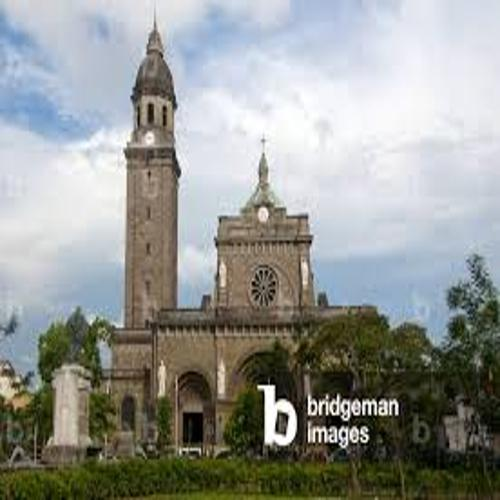Manila Cathedral Church: (77, 5, 395, 465)
